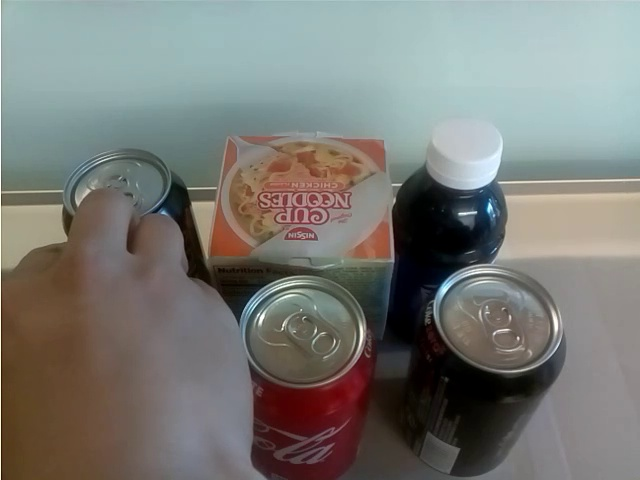cocacola: (235, 274, 380, 477)
cocacola-zero: (396, 270, 570, 480)
cocacola-zero-shadow: (58, 146, 203, 229)
hand: (5, 185, 254, 466)
juice-shadow: (395, 118, 515, 265)
noodles-shadow: (209, 124, 399, 269)
